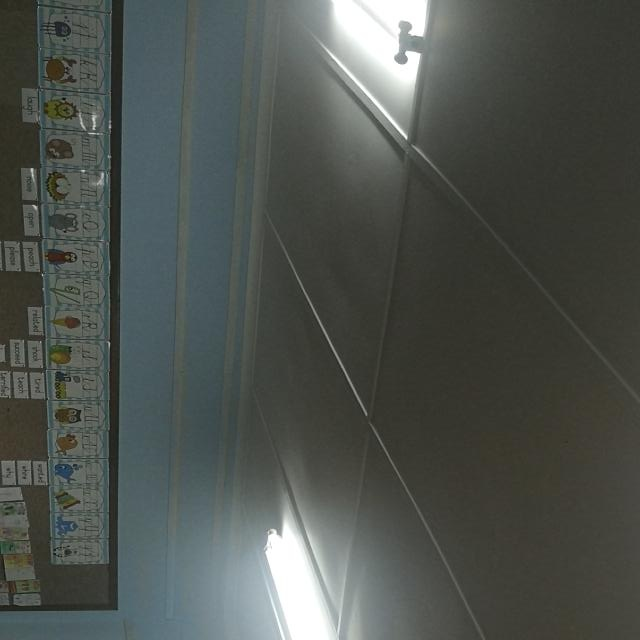fluorescent tube: (233, 514, 362, 640), (290, 5, 446, 98)
